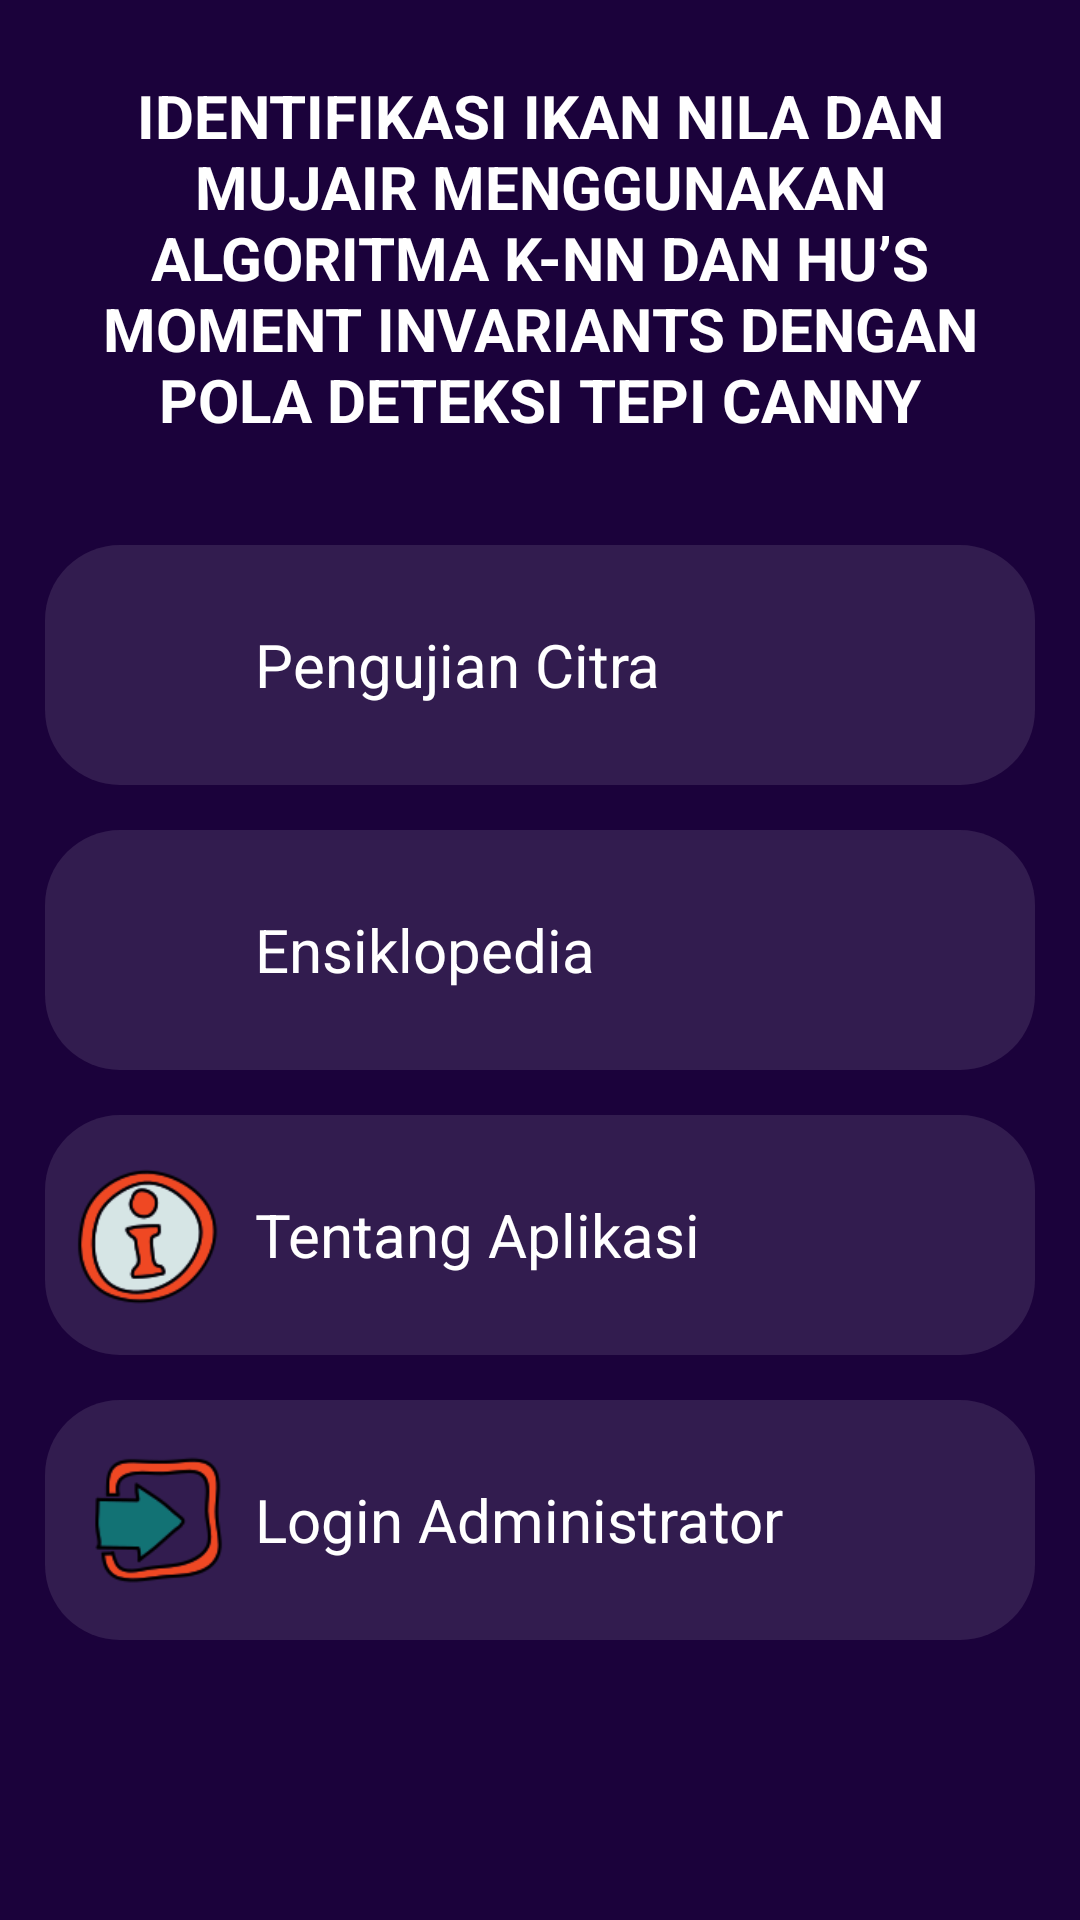

Named icons in this screenshot (1080×1920) and their centers, point (x, y):
info: point (147, 1236)
